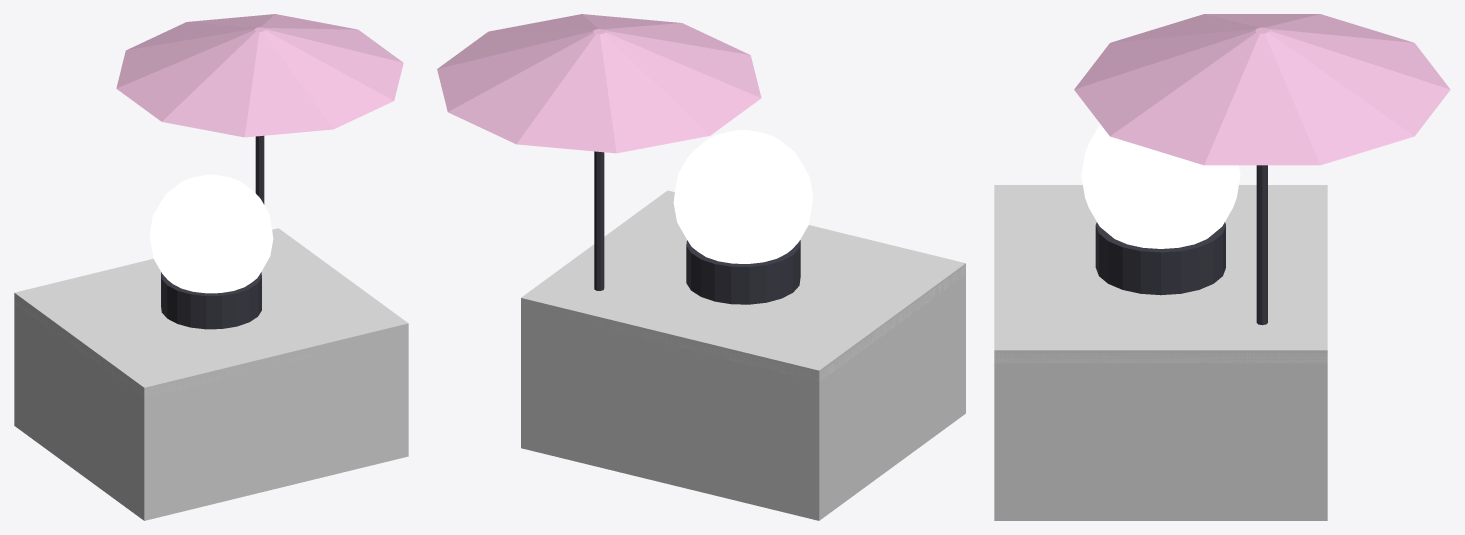
The model's file is cotton_candy_cart.glb.
3 renders of one model, left to right at view 1: azimuth 30°, elevation 25°; view 2: azimuth 150°, elevation 25°; view 3: azimuth 270°, elevation 25°, orthographic. The views are drawn at different scales.
Visible parts, largest first — view 1: COL_Body, CottonCandyCart; view 2: COL_Body, CottonCandyCart; view 3: COL_Body, CottonCandyCart.
Boxes of the visible parts, bbox=[...] form: COL_Body: bbox=[14, 228, 408, 520]; CottonCandyCart: bbox=[14, 14, 408, 397]; COL_Body: bbox=[521, 190, 965, 520]; CottonCandyCart: bbox=[437, 14, 965, 381]; COL_Body: bbox=[994, 185, 1327, 520]; CottonCandyCart: bbox=[994, 14, 1450, 363].
Size of the model in its own units: 3.49 by 3.52 by 3.15.
